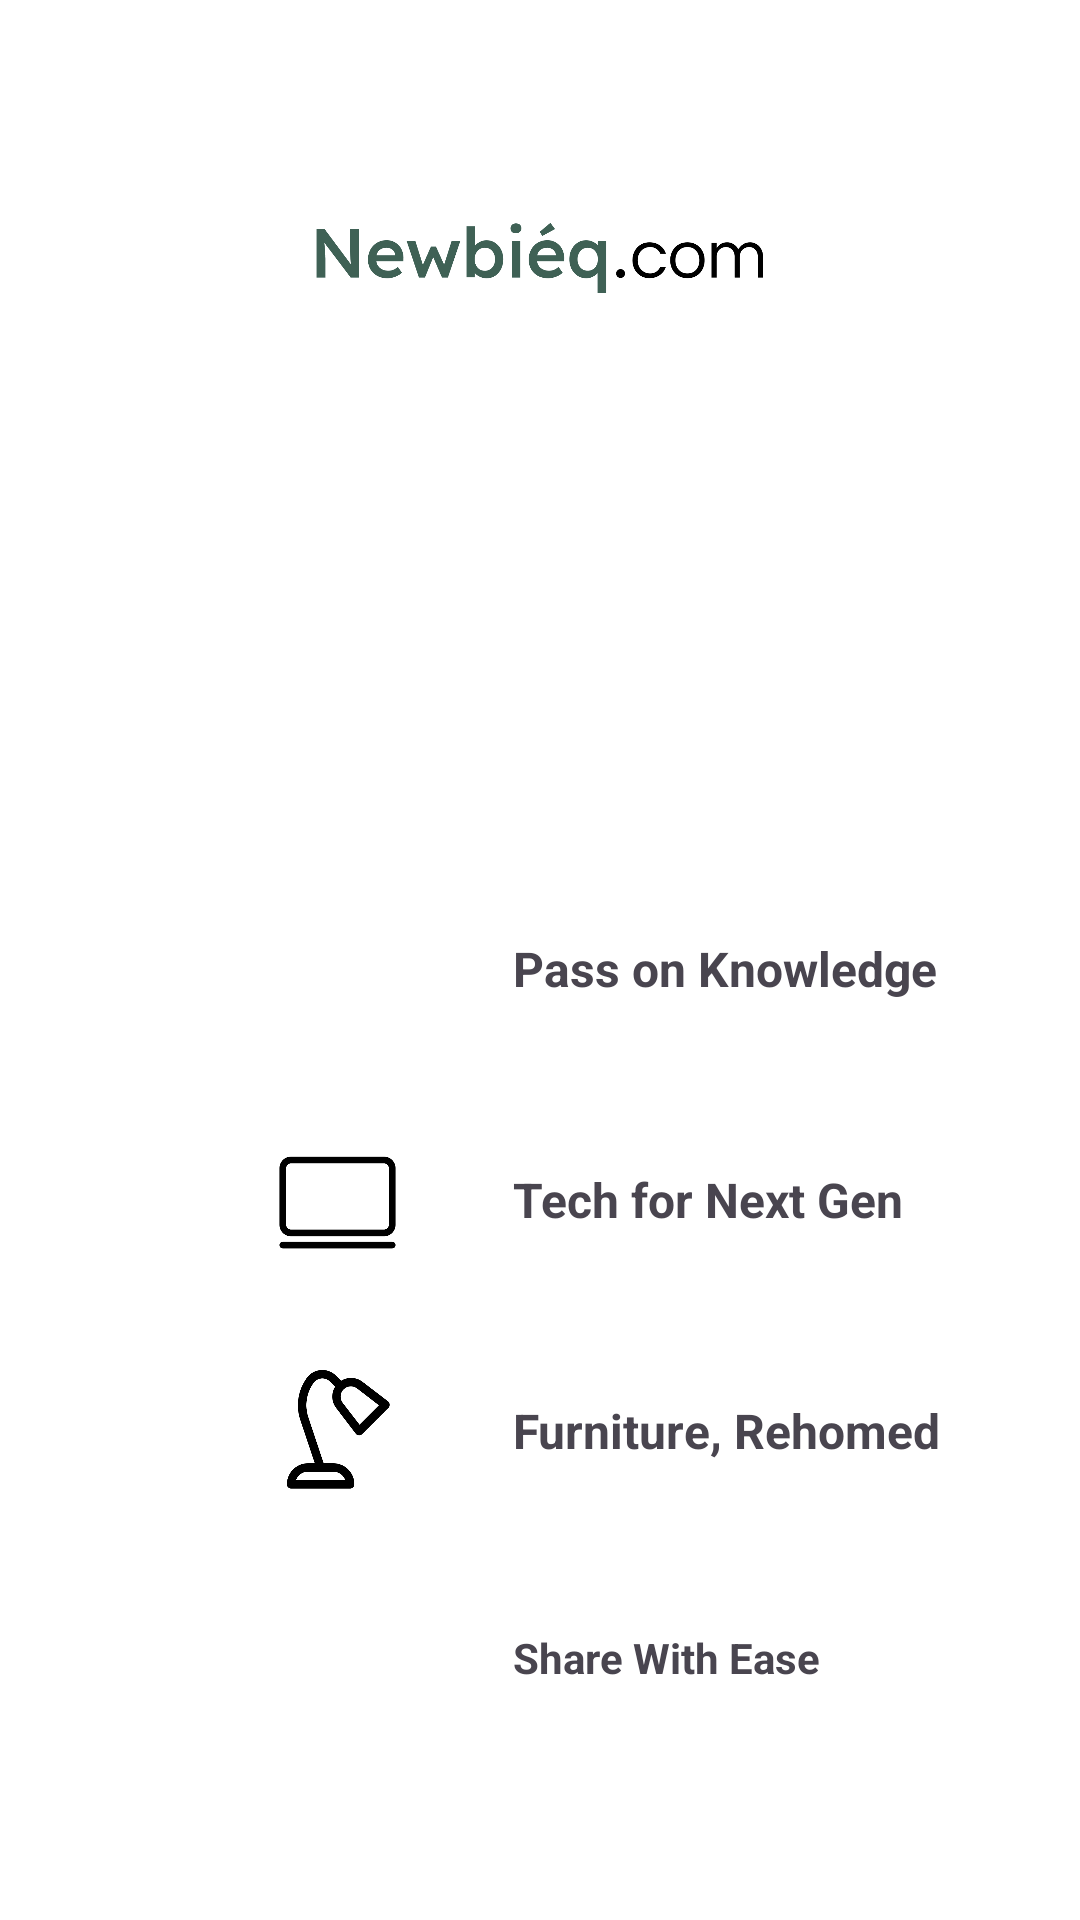

Icon bounding boxes for this 1080 x 1920 phone screenshot, format detection(x1, y1, x2, y2):
lamp: detection(287, 1370, 390, 1489)
laptop: detection(279, 1156, 396, 1249)
